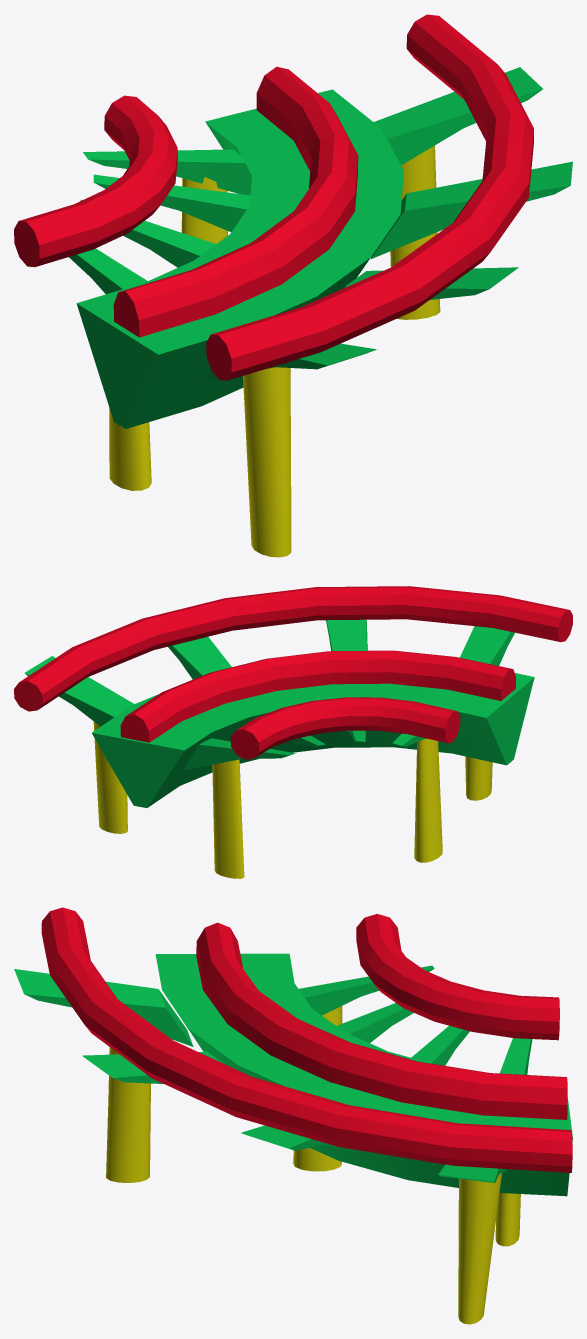
Rendered from Rail_LeftTurn_01.fbx.
The picture shows the model from 3 angles, top to bottom: view 1: azimuth 30°, elevation 25°; view 2: azimuth 150°, elevation 25°; view 3: azimuth 270°, elevation 25°; orthographic projection. The views are drawn at different scales.
Parts seen in each view (by area): view 1: RailLeftTurn; view 2: RailLeftTurn; view 3: RailLeftTurn.
Part boxes in pixels (left/top/right/bottom): RailLeftTurn: left=14, top=14, right=572, bottom=557; RailLeftTurn: left=14, top=586, right=572, bottom=878; RailLeftTurn: left=14, top=907, right=572, bottom=1324.
Size of the model in its own units: 2.97 by 1.35 by 2.91.
